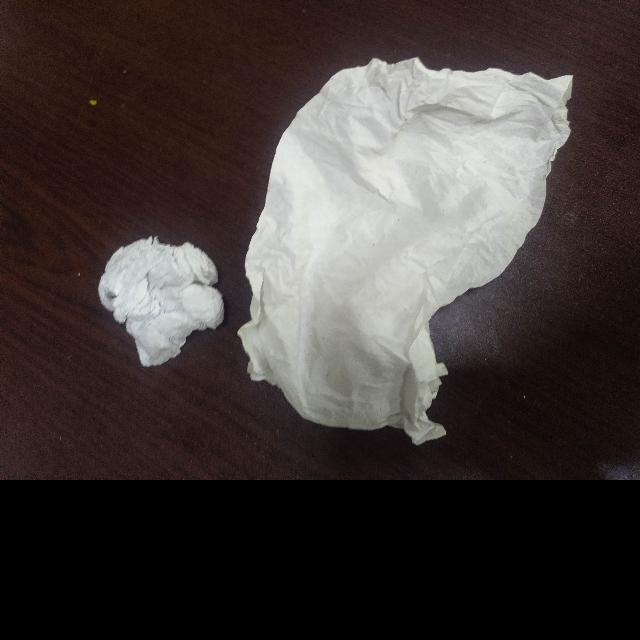kitchen paper: (234, 56, 576, 459), (95, 231, 224, 365)
